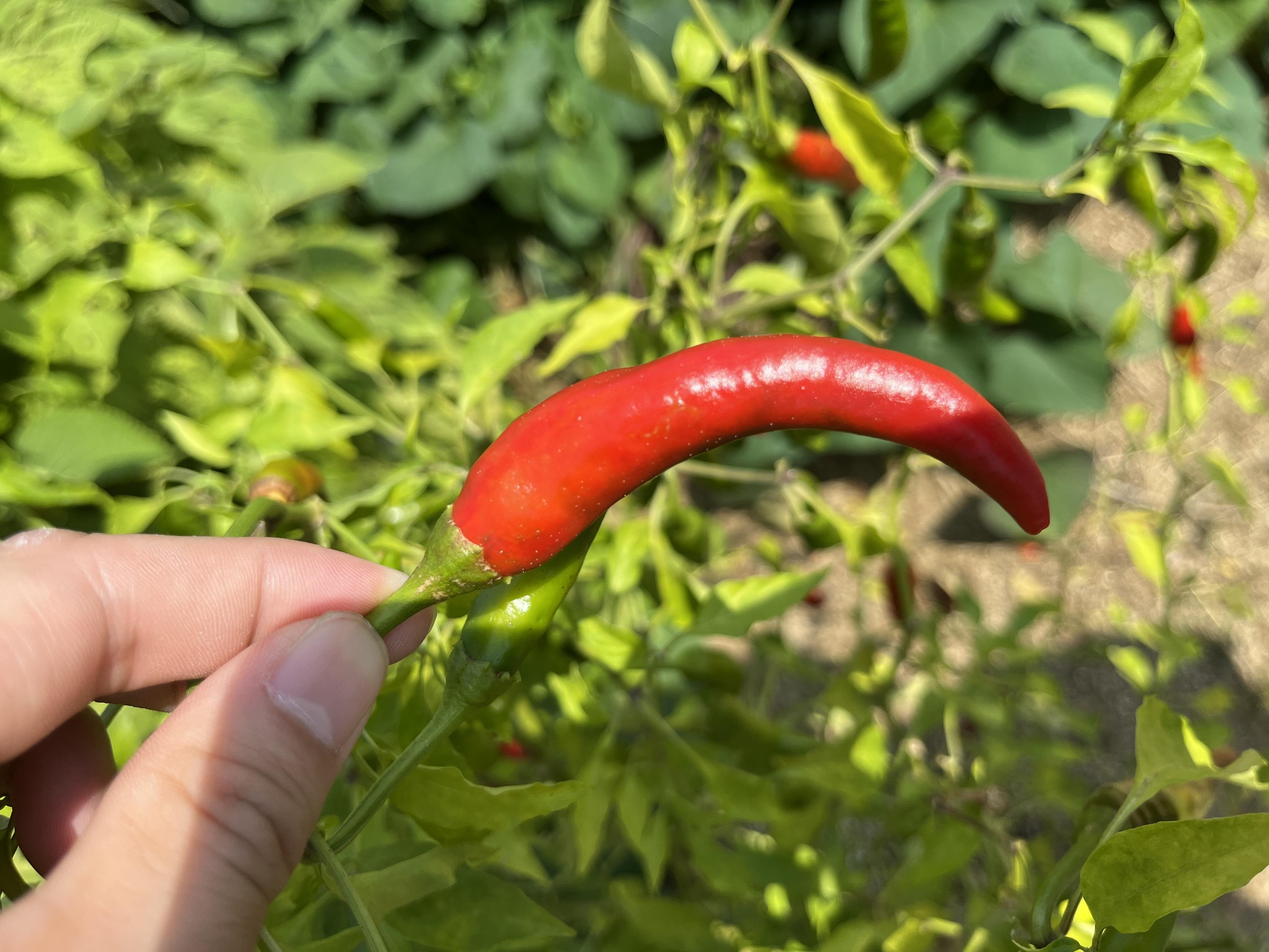Buah Cabai Sehat: (441, 290, 855, 797)
